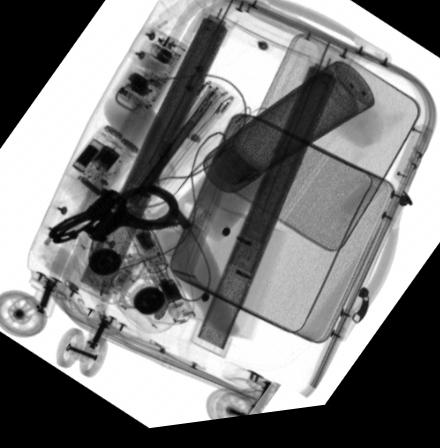Baton: (120, 208, 195, 326)
HandCuffs: (46, 185, 184, 246)
